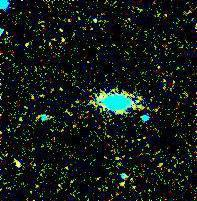star: (110, 170, 140, 200)
